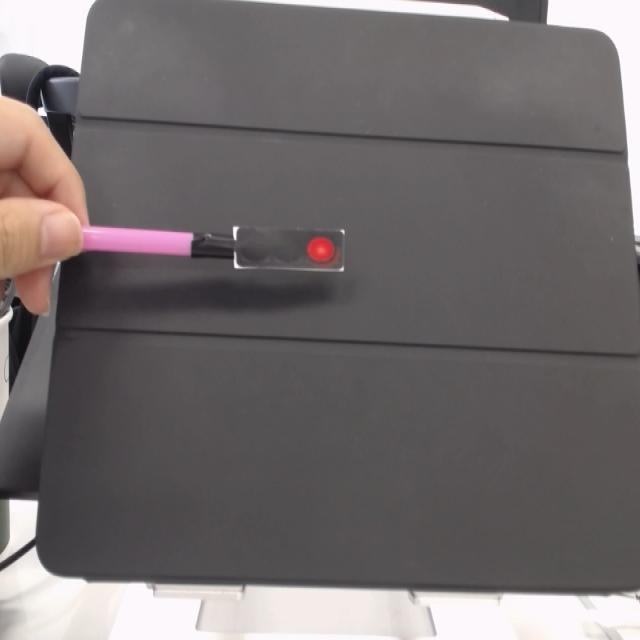traffic light: (233, 227, 346, 273)
